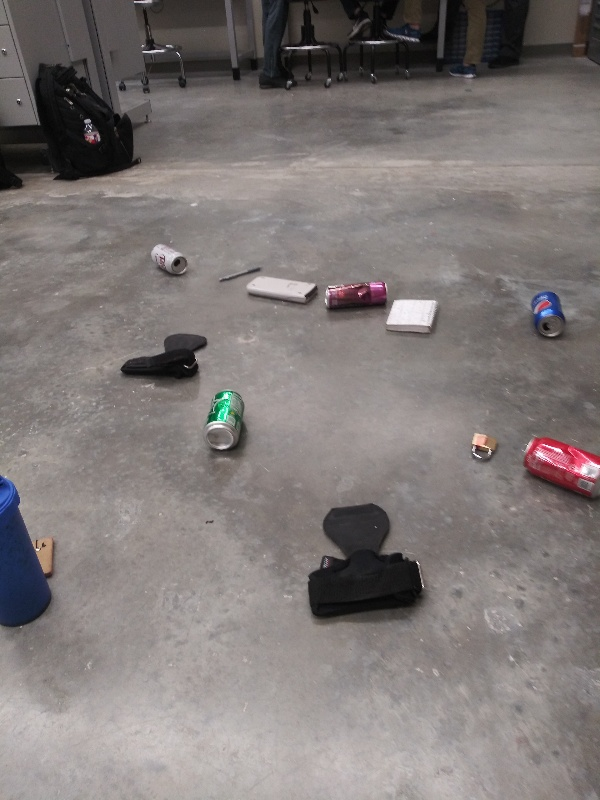can: (512, 431, 600, 503), (201, 386, 249, 456), (322, 275, 393, 315), (526, 288, 568, 345), (146, 243, 190, 276)
